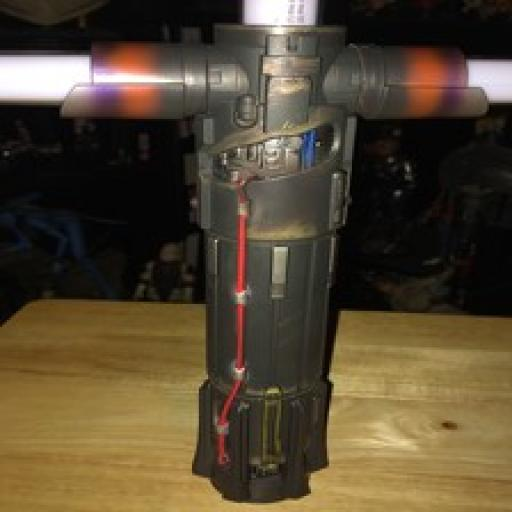lightsaber: (58, 20, 490, 512)
